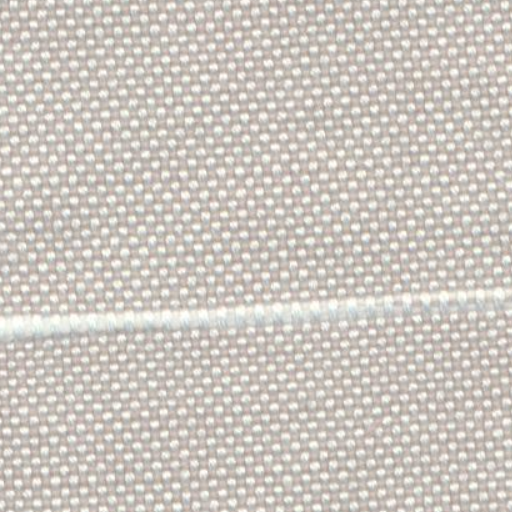DaiSha: (12, 279, 500, 354)
